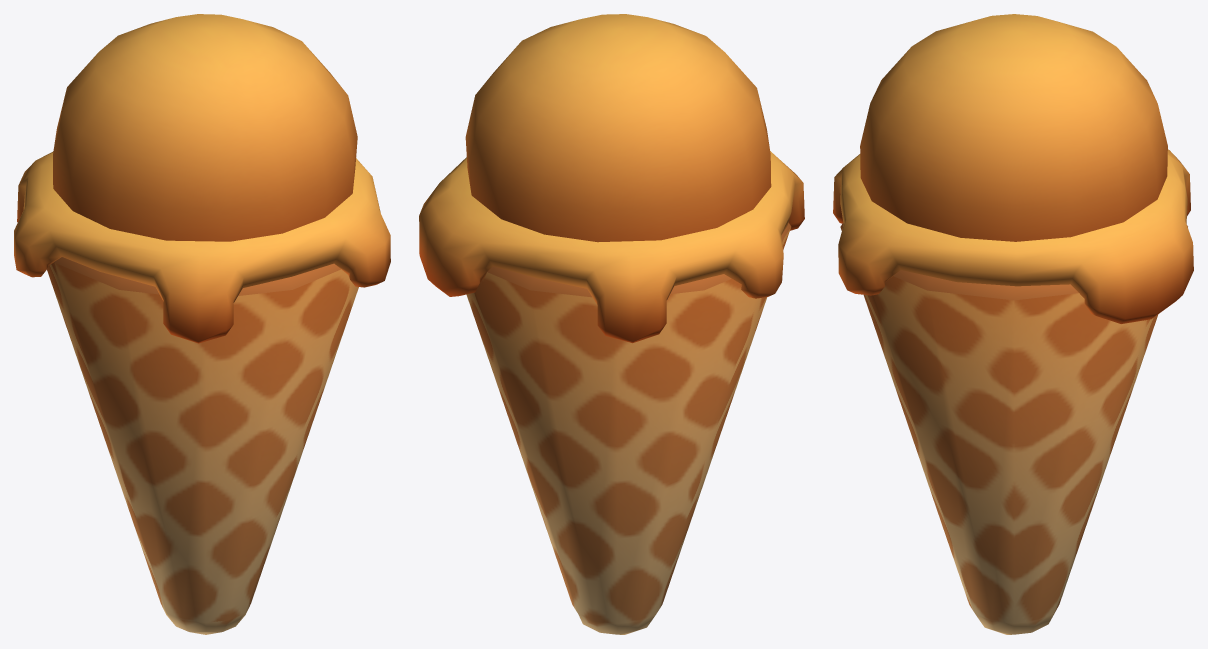
The model's file is m_IceCream09.fbx.
3 renders of one model, left to right at view 1: azimuth 30°, elevation 25°; view 2: azimuth 150°, elevation 25°; view 3: azimuth 270°, elevation 25°, orthographic.
Visible parts, largest first — view 1: m_IceCream09; view 2: m_IceCream09; view 3: m_IceCream09.
Boxes of the visible parts, bbox=[...] form: m_IceCream09: bbox=[14, 14, 390, 634]; m_IceCream09: bbox=[419, 14, 804, 634]; m_IceCream09: bbox=[833, 14, 1193, 634].
Size of the model in its own units: 9.64 by 16.94 by 9.25.
